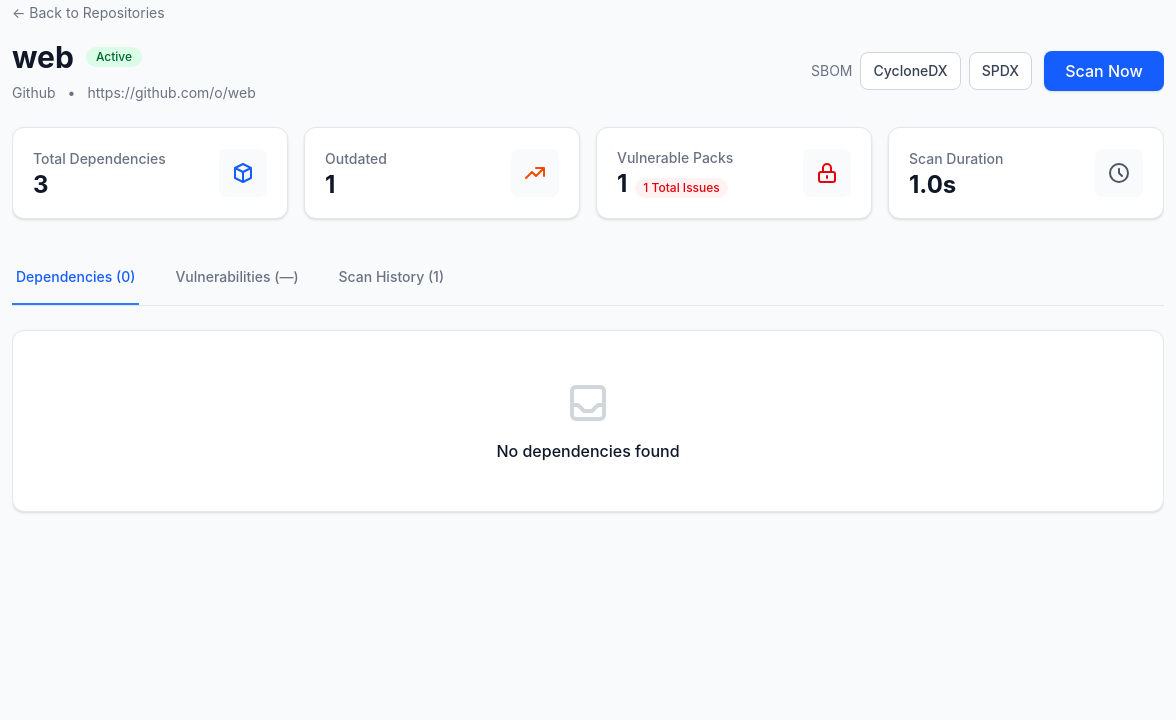
Scenario: RepoDetail › shows an error, not an empty list, when vulnerabilities fail to load
Click the button "Vulnerabilities (—)". click: coordinates (237, 278)
box: x1=171 y1=251 x2=303 y2=305
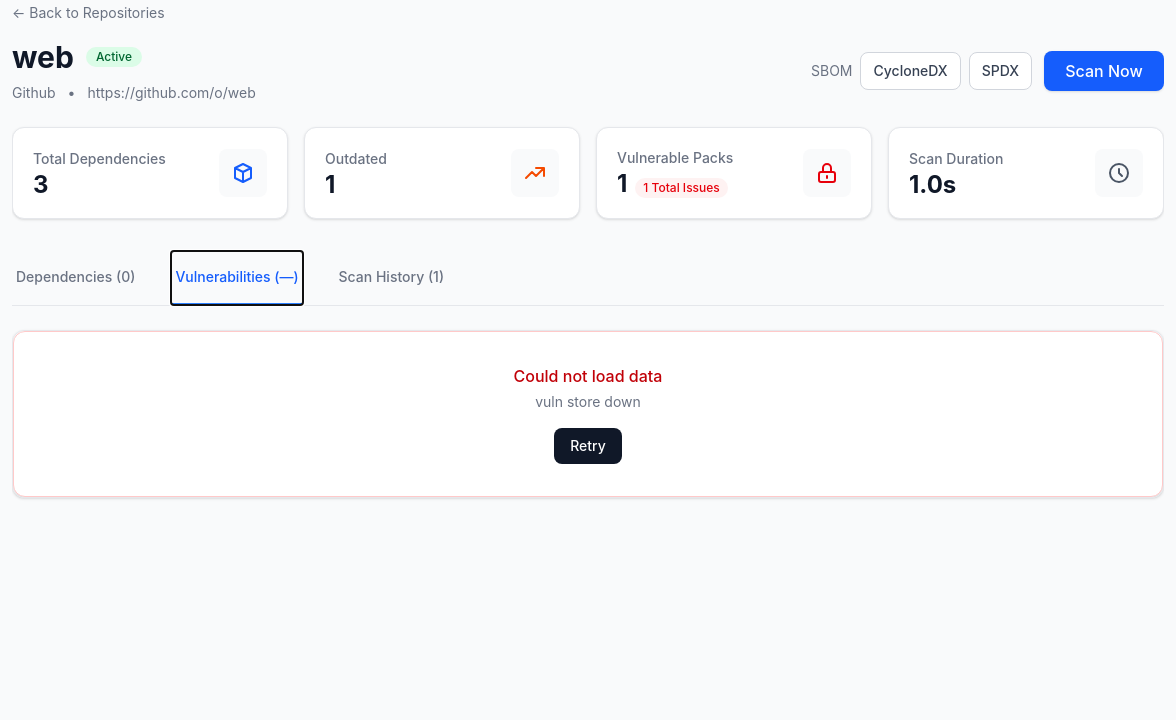
Check: the message shows "vuln store down", box x1=535 y1=393 x2=641 y2=410
Check: the button "Retry" is shown, box x1=554 y1=428 x2=622 y2=464
